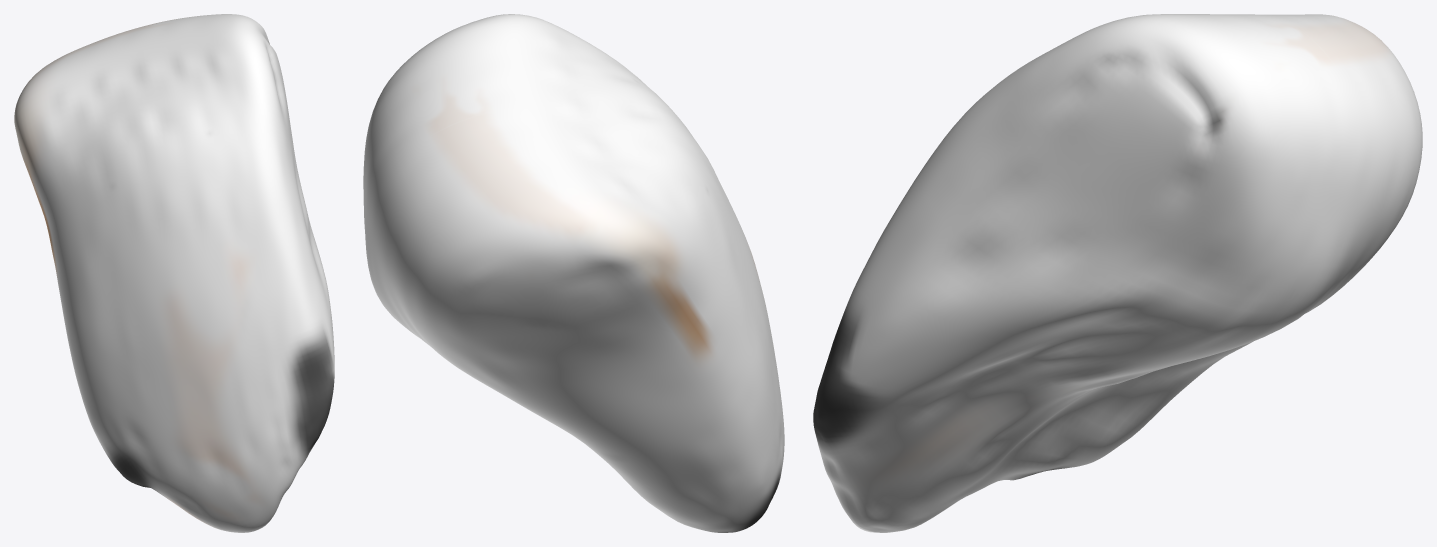
Rendered from 13_class_6.glb.
3 renders of one model, left to right at view 1: azimuth 30°, elevation 25°; view 2: azimuth 150°, elevation 25°; view 3: azimuth 270°, elevation 25°, orthographic. The views are drawn at different scales.
Visible parts, largest first — view 1: 13; view 2: 13; view 3: 13.
Part boxes in pixels (left/top/right/bottom): 13: left=14, top=14, right=334, bottom=532; 13: left=363, top=14, right=784, bottom=532; 13: left=813, top=14, right=1422, bottom=532.
Size of the model in its own units: 0.2153 by 0.3501 by 0.3347.
1 material, 1 textured.
